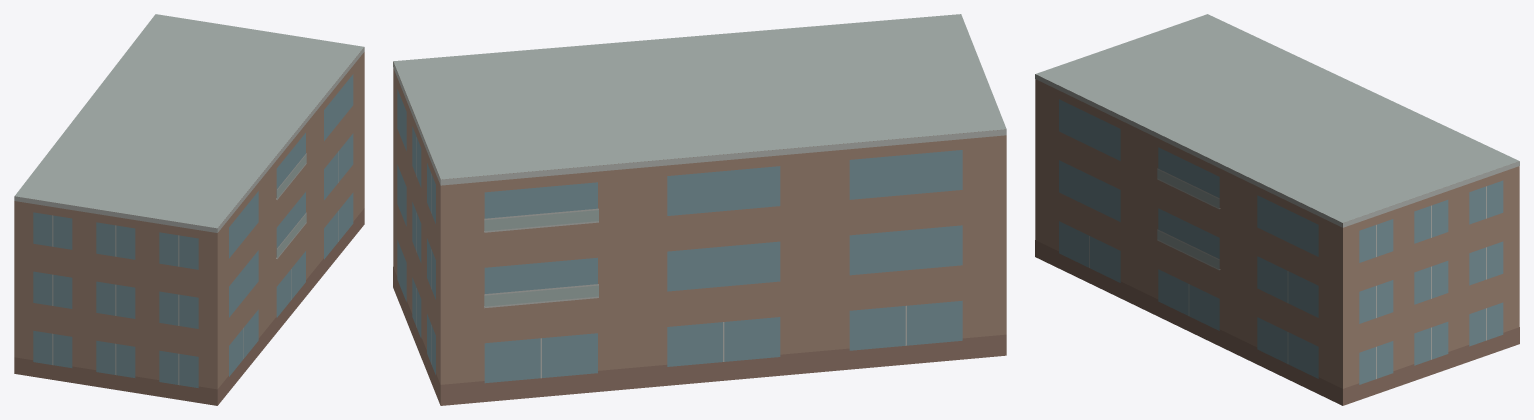
Rendered from survey-upis-32951399.glb.
The picture shows the model from 3 angles, left to right: view 1: azimuth 30°, elevation 25°; view 2: azimuth 150°, elevation 25°; view 3: azimuth 270°, elevation 25°; orthographic projection. The views are drawn at different scales.
Visible parts, largest first — view 1: survey-upis-32951399.tmp; view 2: survey-upis-32951399.tmp; view 3: survey-upis-32951399.tmp.
Boxes of the visible parts, <box> form: survey-upis-32951399.tmp: <box>14,14,364,405</box>; survey-upis-32951399.tmp: <box>393,14,1006,405</box>; survey-upis-32951399.tmp: <box>1035,14,1519,405</box>.
Size of the model in its own units: 22.43 by 9.15 by 21.97.
